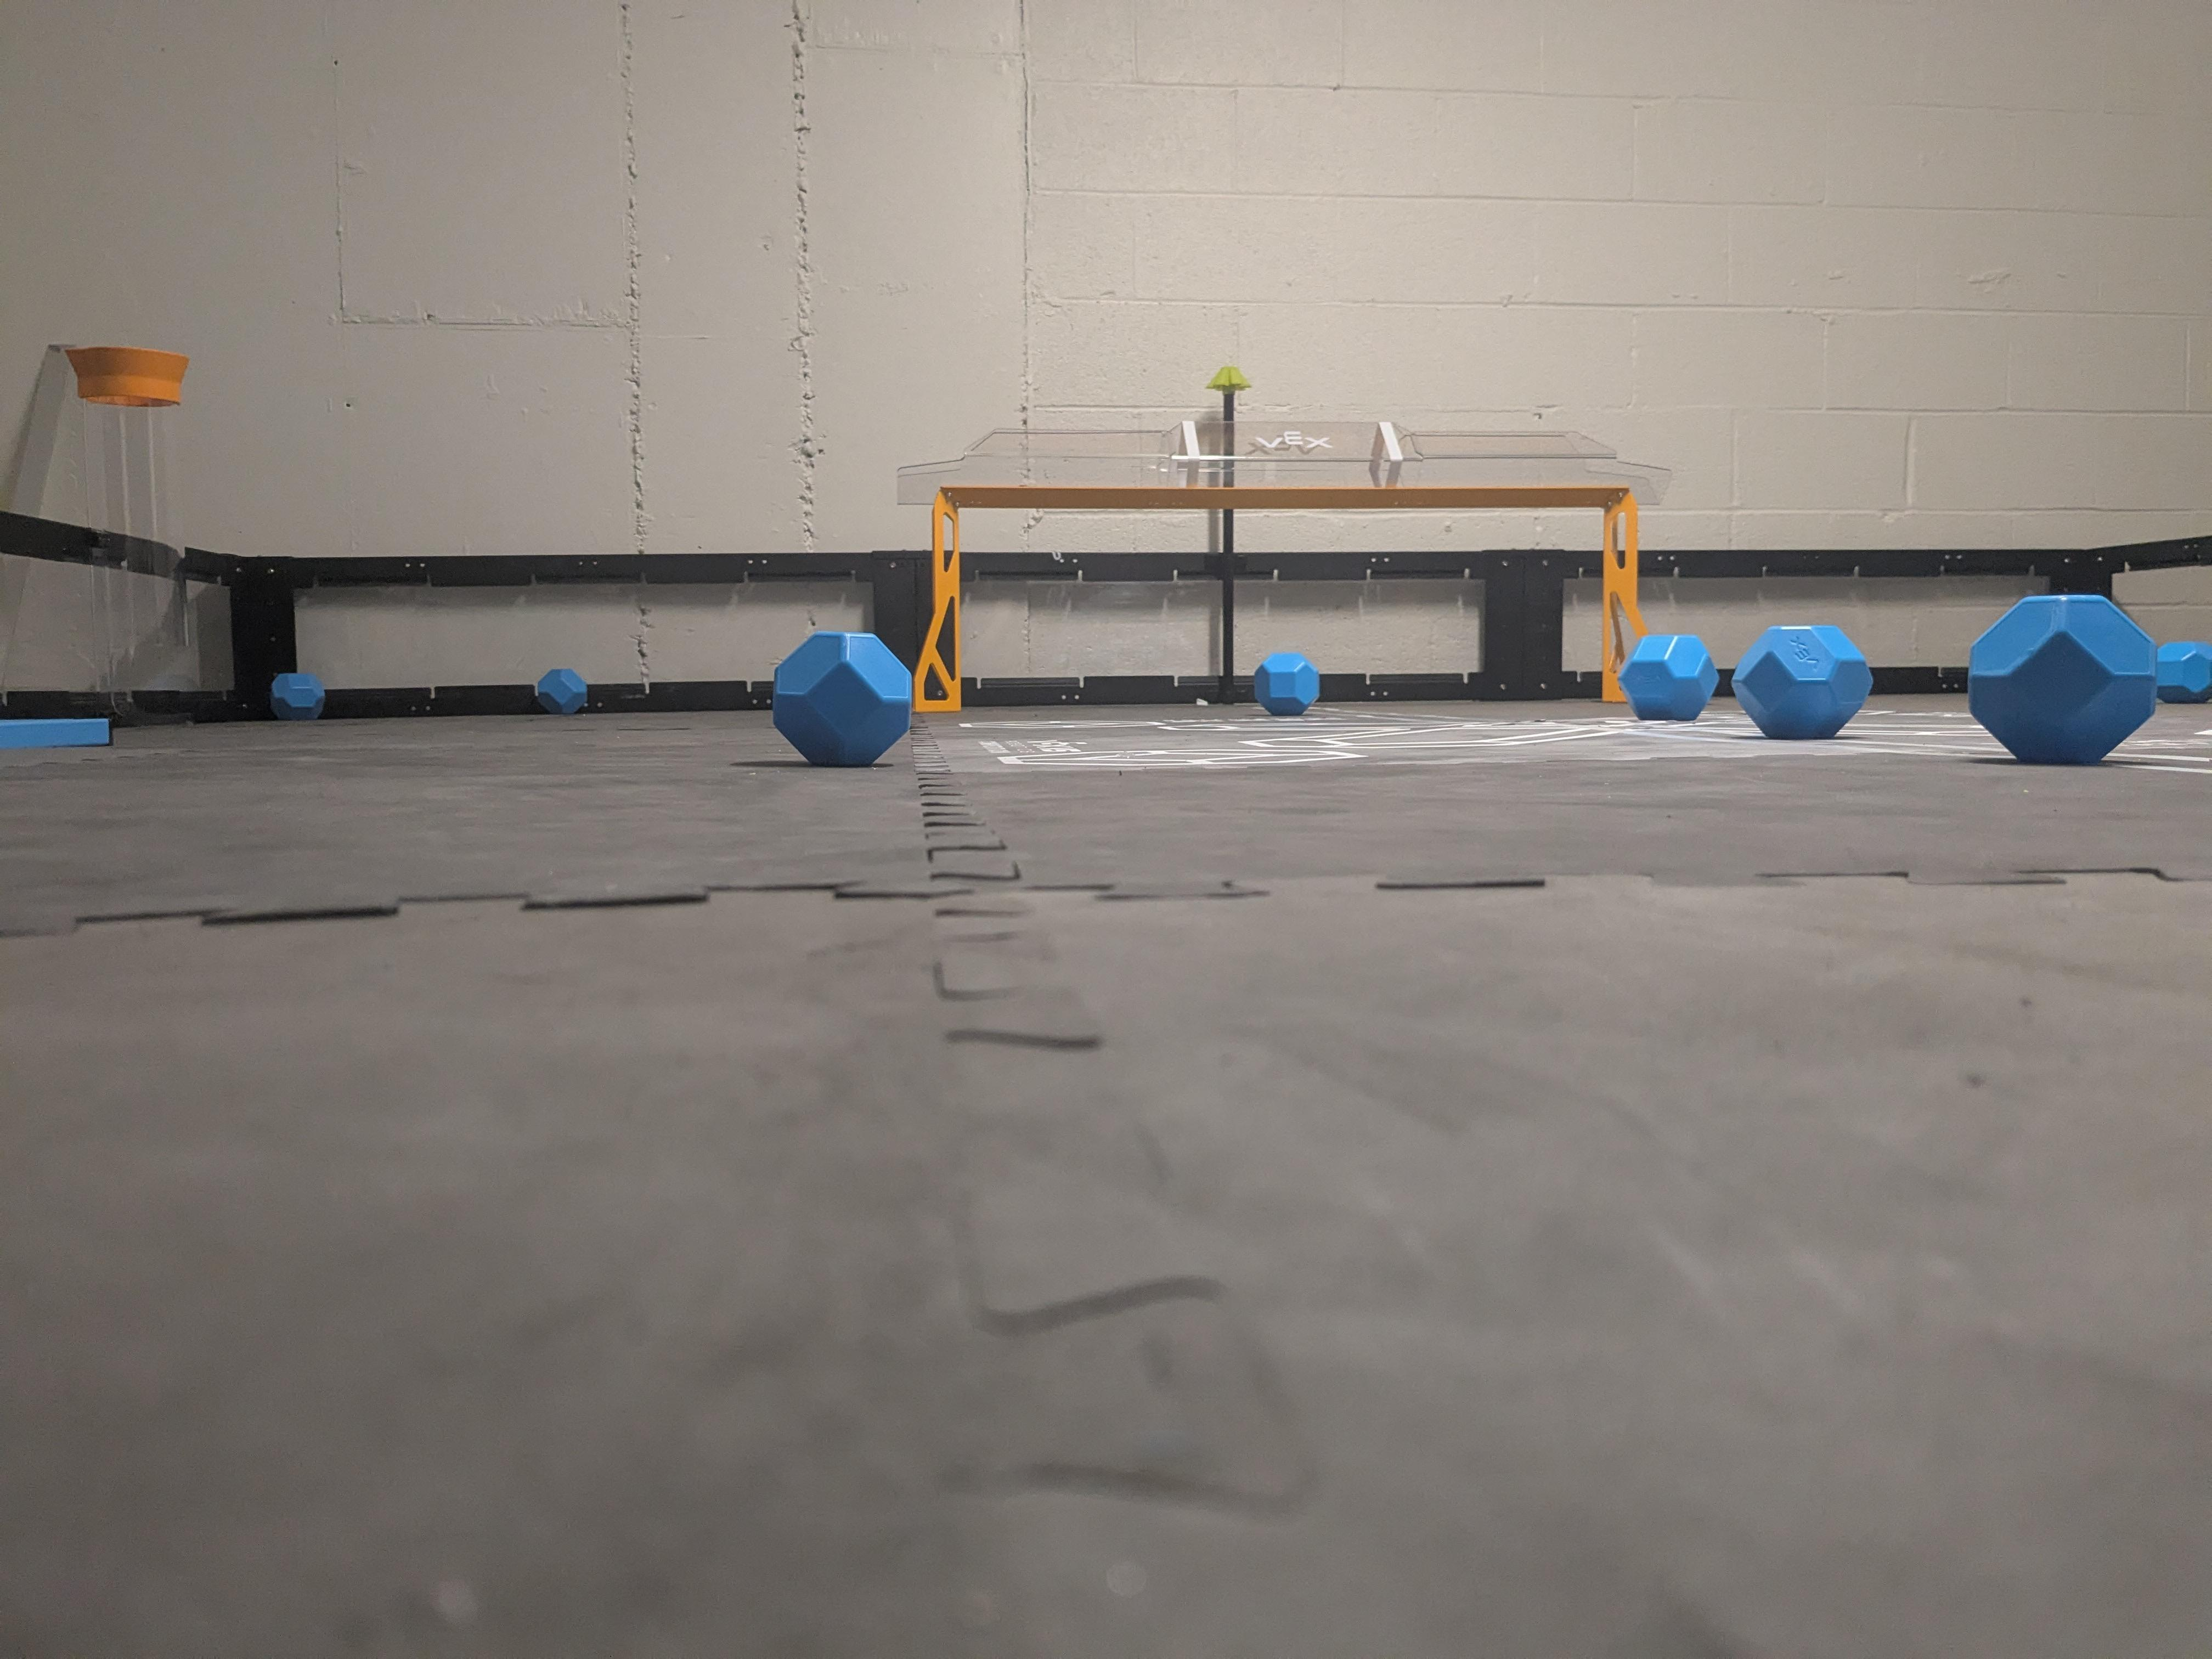Vex-Pieces-BLUE: (1970, 592, 2207, 765), (773, 629, 916, 765), (1735, 627, 1872, 734), (1620, 634, 1719, 720), (1251, 655, 1322, 716), (270, 673, 324, 720), (535, 667, 587, 714)
